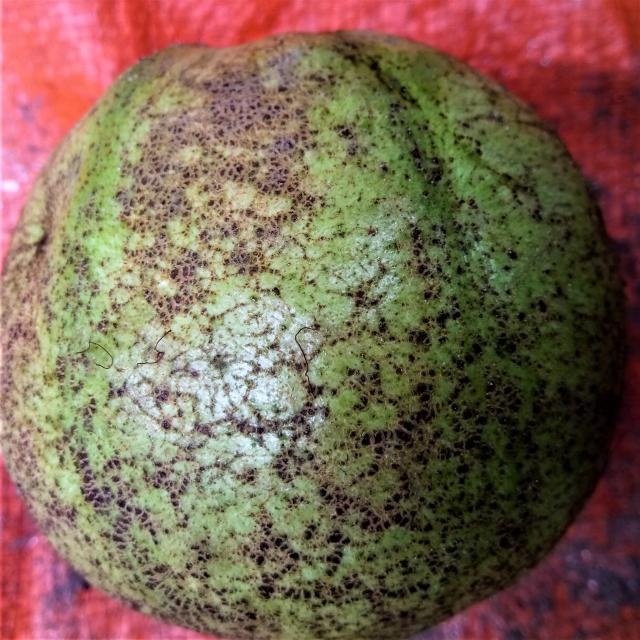Scab: (3, 32, 625, 640)
